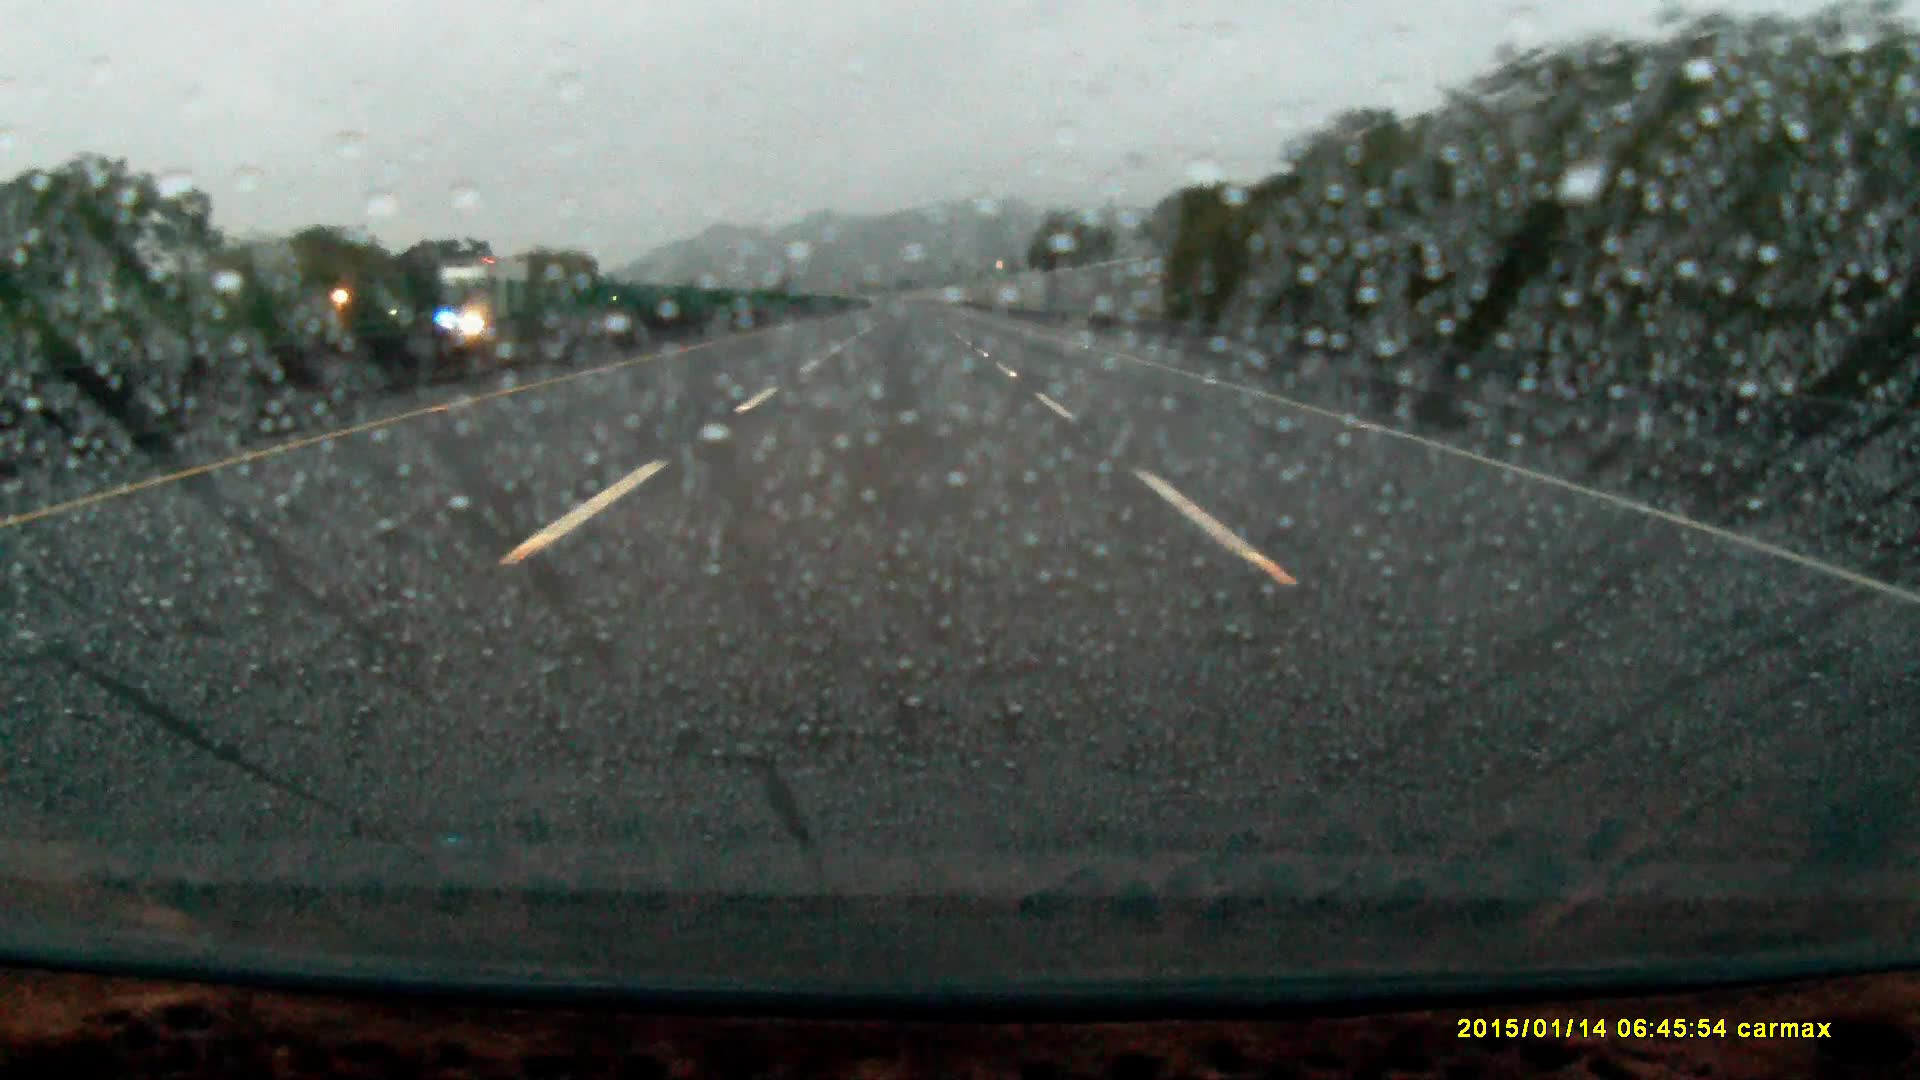vehicle: (425, 255, 531, 342)
